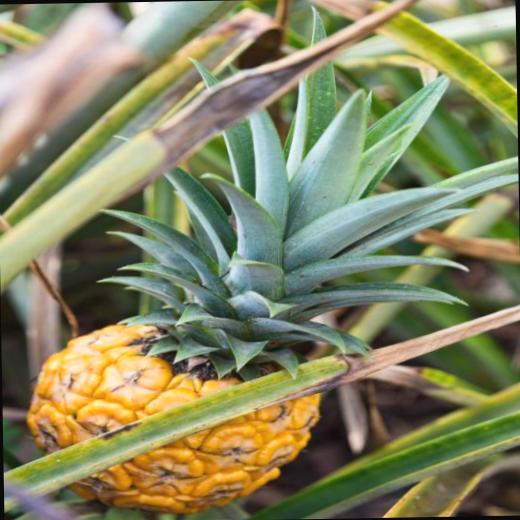Mango: (18, 0, 520, 516)
